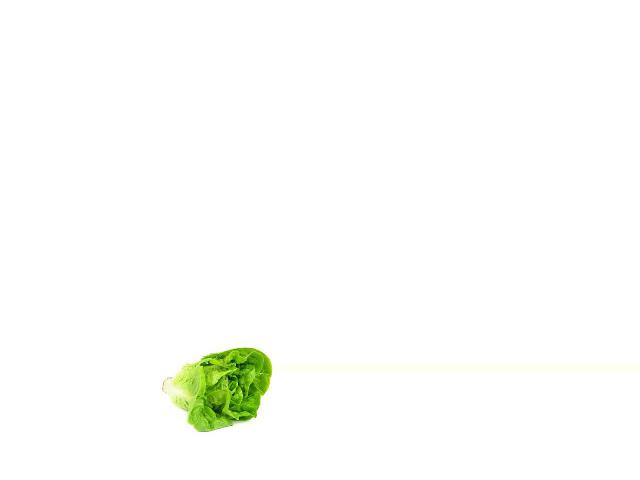lettuce: (158, 345, 272, 438)
